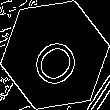O_NE: (23, 22, 87, 88)
